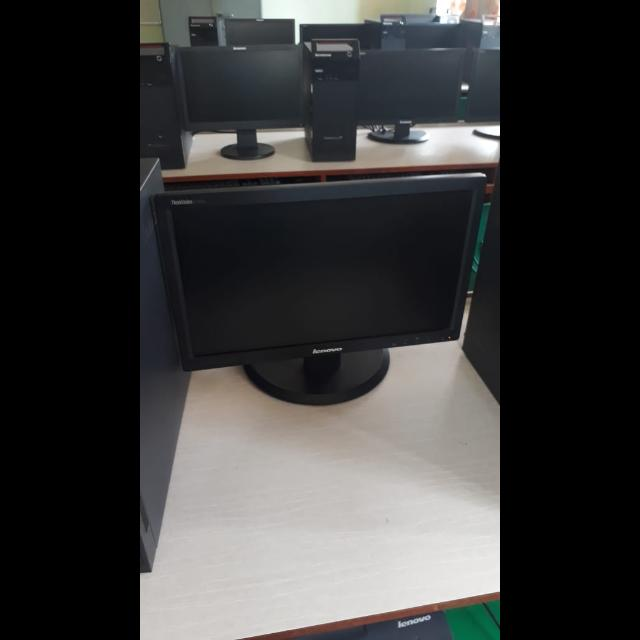Flat-Panel-Monitor: (144, 168, 500, 420), (168, 36, 320, 164), (360, 46, 462, 144)
